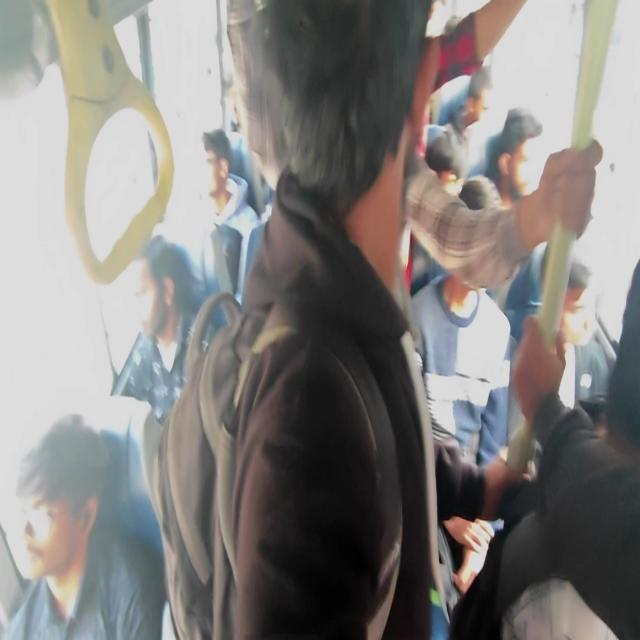person: (270, 0, 442, 296), (522, 400, 640, 640), (23, 428, 135, 563), (138, 251, 195, 342), (462, 197, 498, 314), (465, 66, 517, 140), (559, 268, 608, 339), (195, 138, 243, 202), (500, 125, 546, 186), (437, 128, 460, 182)
